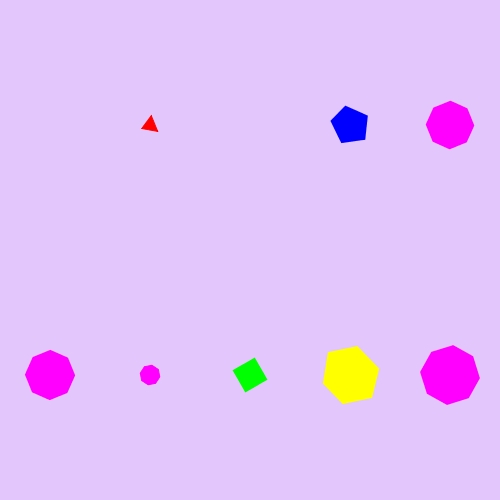hexagon: (316, 347, 385, 404)
octagon: (417, 342, 484, 409), (22, 347, 79, 404), (422, 97, 478, 153), (135, 360, 165, 390)
pentagon: (328, 103, 373, 148)
quadrilateral: (229, 354, 272, 397)
triangle: (138, 112, 163, 138)
